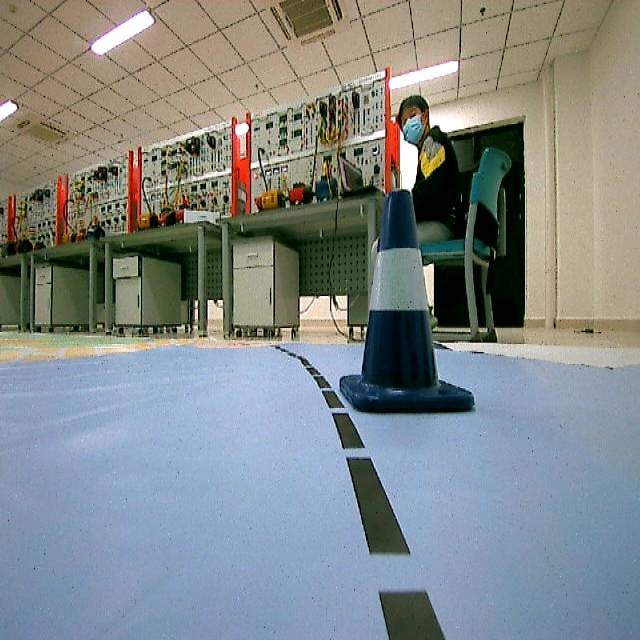obstacle: (350, 189, 480, 410)
